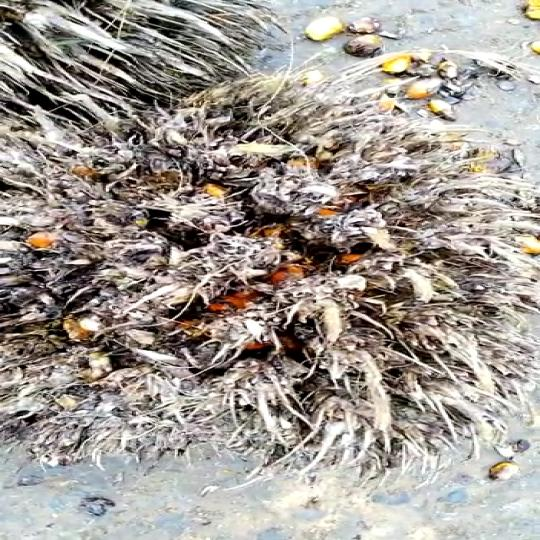terlalu masak: (0, 93, 529, 444)
